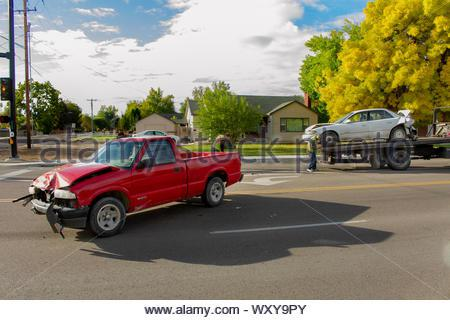bonnet-dent: (36, 165, 118, 185)
front-bumper-dent: (22, 187, 77, 214)
